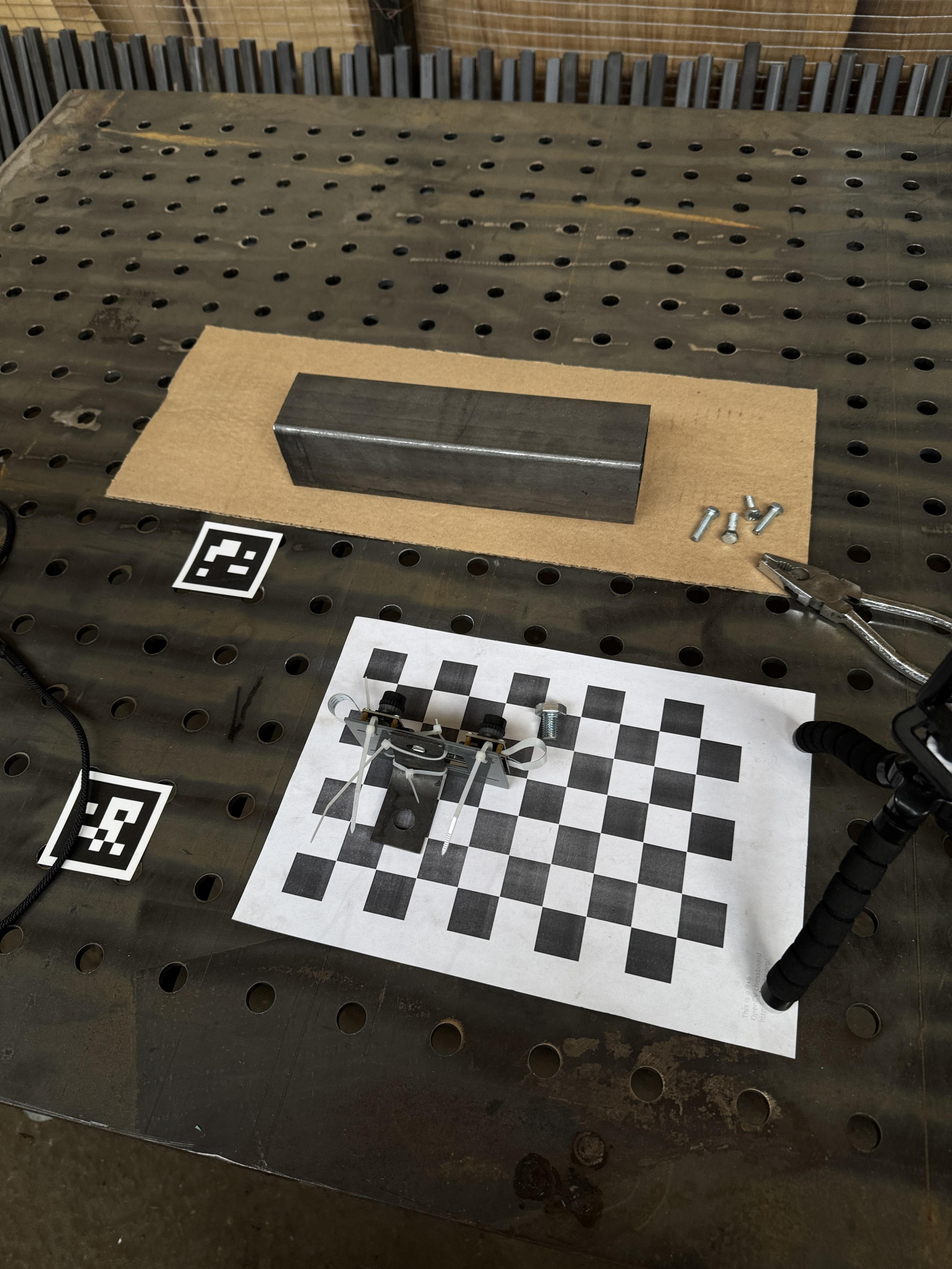detail: (273, 372, 652, 526)
